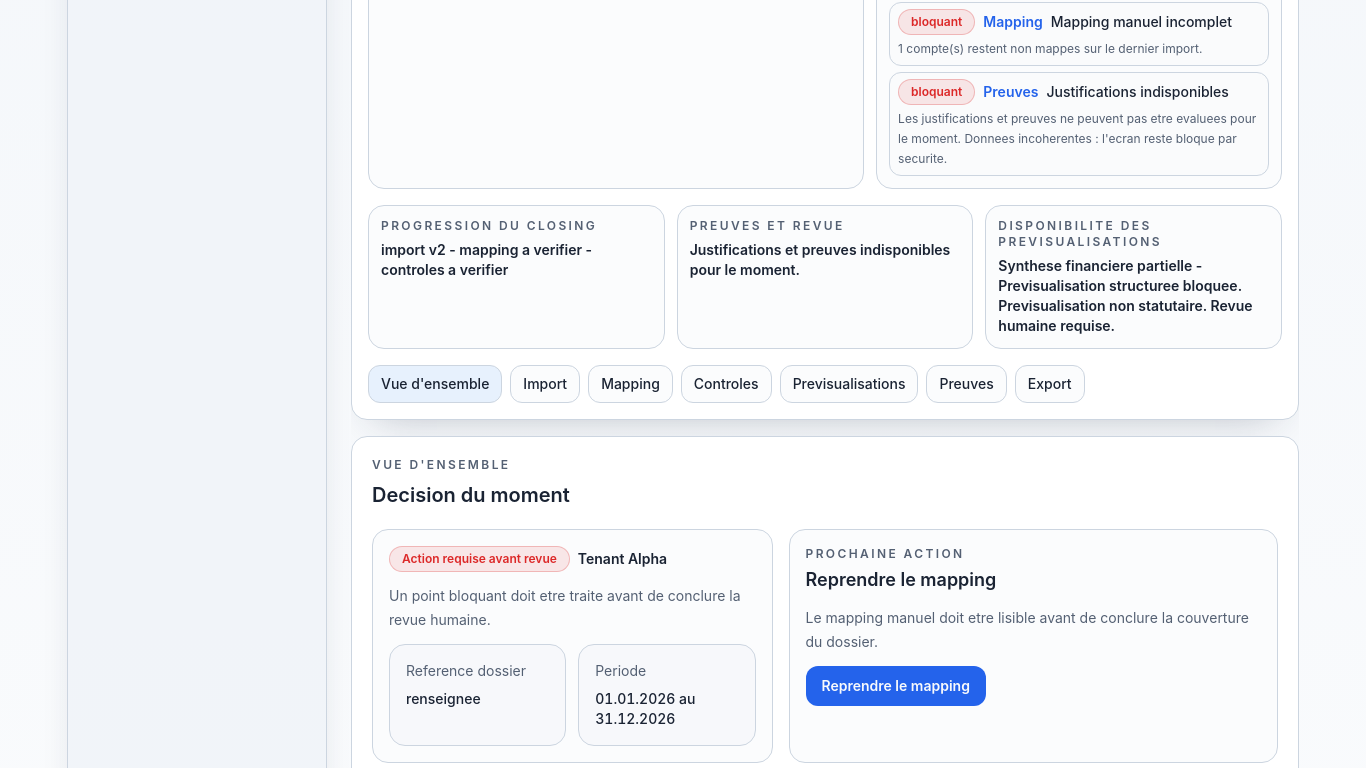
router manual mapping › renders the exact mapping read state 'acces mapping refuse'
(page scrolled)
Click the tab "Mapping": (630, 384) [588,365,673,403]
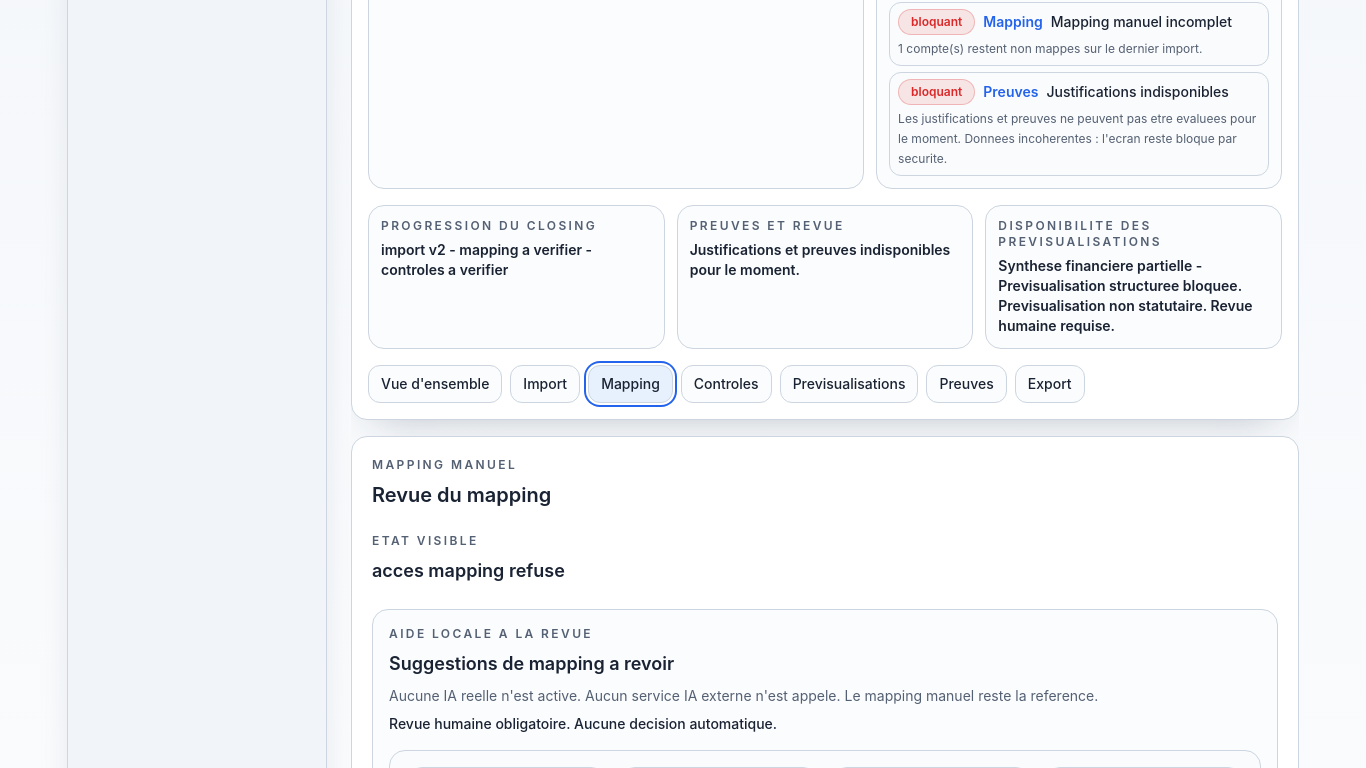
Expected: the tab "Controles" is shown, [681,365,772,403]
Expected: the text "acces mapping refuse" is shown, [372,560,565,581]
